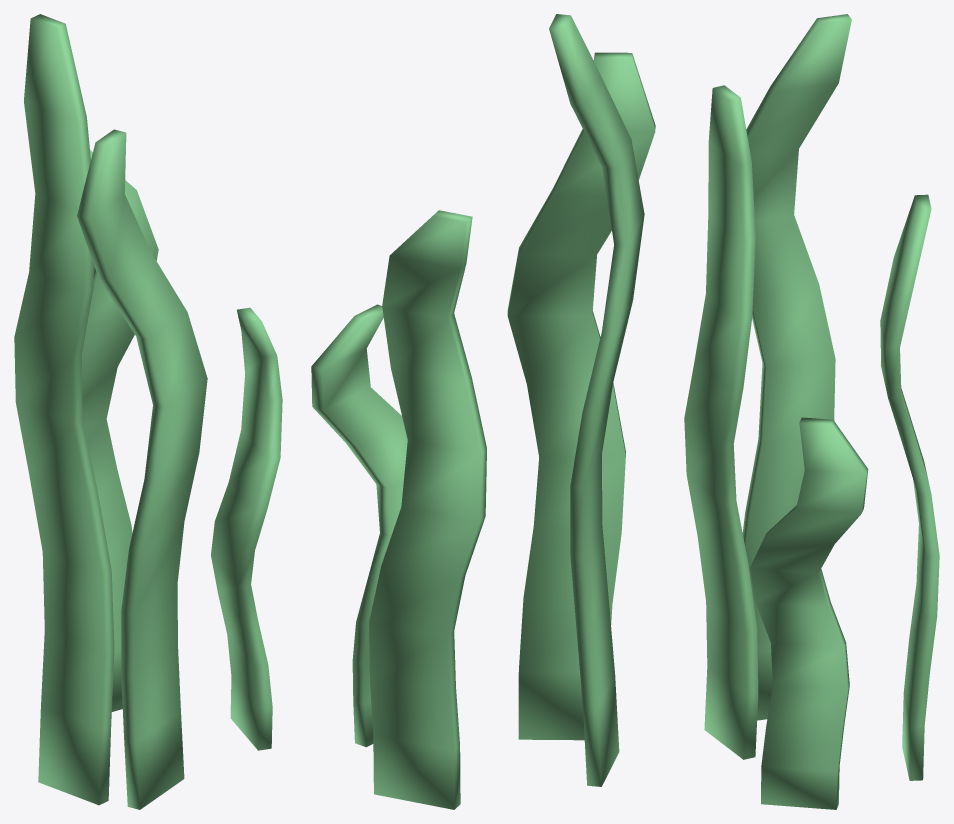
The model's file is Small2.fbx.
3 views of the same model, side by side, from view 1: azimuth 30°, elevation 25°; view 2: azimuth 150°, elevation 25°; view 3: azimuth 270°, elevation 25° (orthographic). The views are drawn at different scales.
Visible parts, largest first — view 1: Small2_EXPORT; view 2: Small2_EXPORT; view 3: Small2_EXPORT.
Boxes of the visible parts, <box> form: Small2_EXPORT: <box>14,14,282,809</box>; Small2_EXPORT: <box>311,14,655,809</box>; Small2_EXPORT: <box>684,14,939,809</box>.
Size of the model in its own units: 0.9717 by 2.57 by 0.8481.
